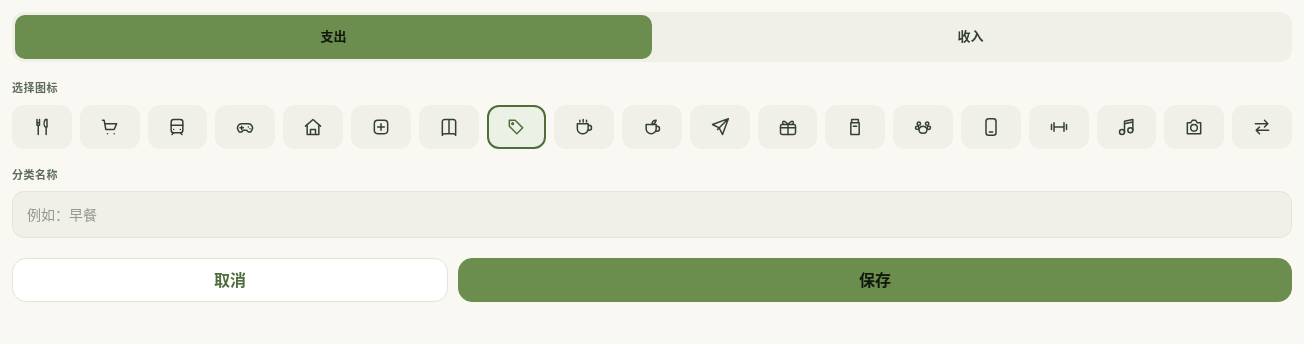
Scenario: recovers after a rejected async save
Type "咖啡" into the field labelled "分类名称" at (652, 214), box [12,191,1292,238]
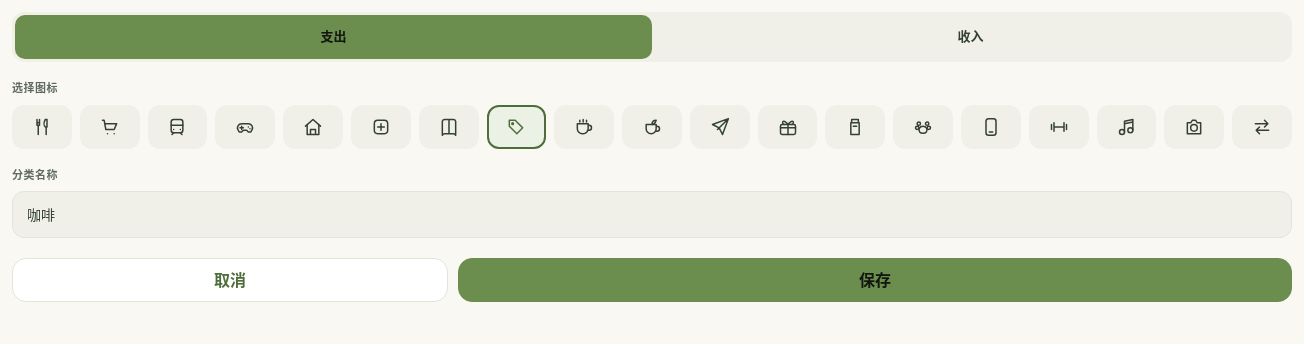
Click the button with aria-label "保存分类" at (875, 280), box [458,258,1292,302]
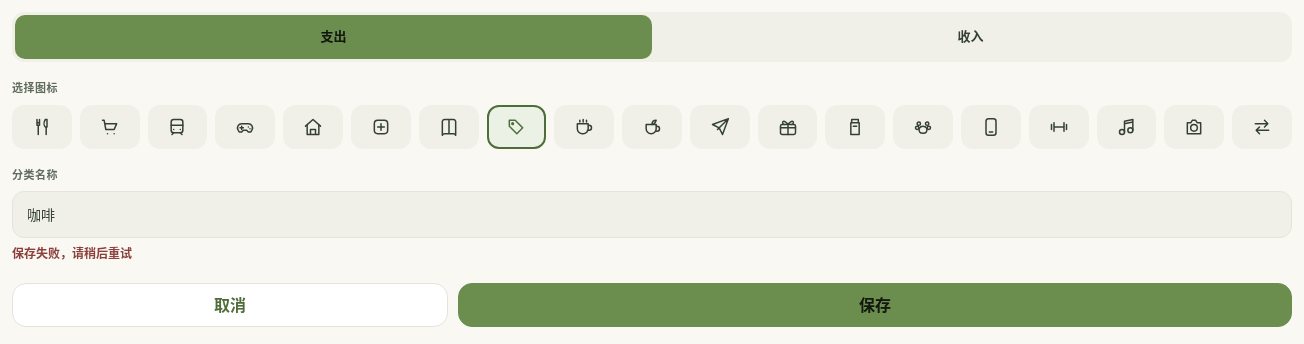
Expected: the button with aria-label "保存分类" is enabled, [458,283,1292,327]
Expected: the message reads "保存失败，请稍后重试", [12,246,132,261]
